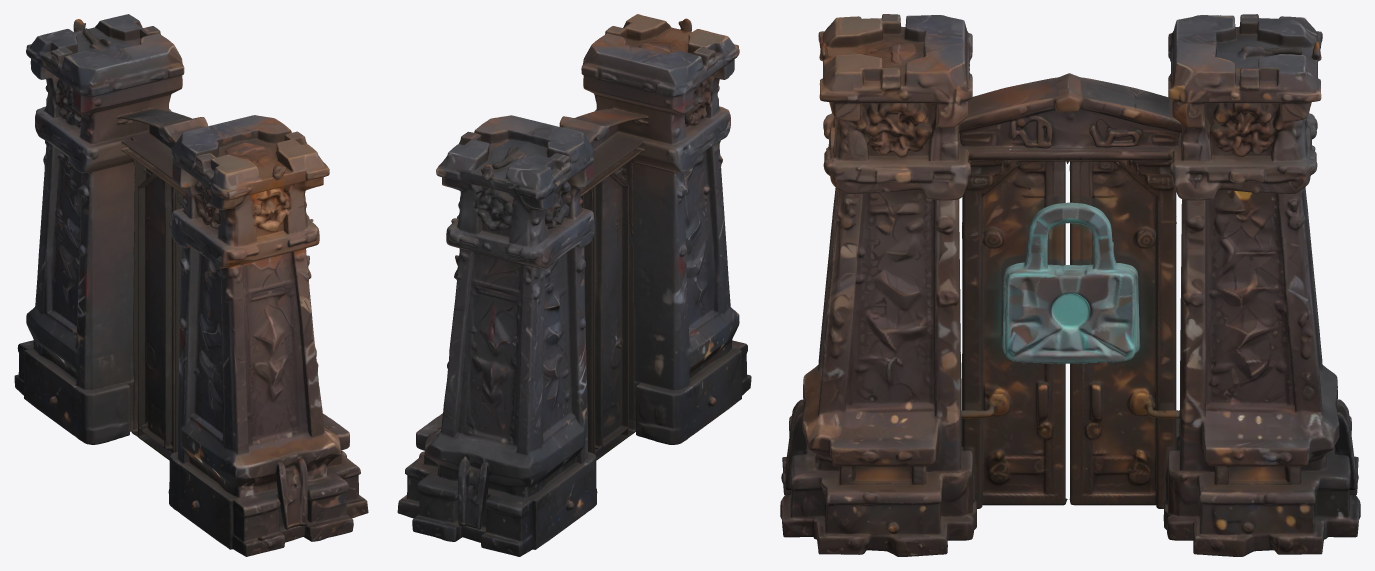
File: بوابة_الأفق.glb
3 views of the same model, side by side, from view 1: azimuth 30°, elevation 25°; view 2: azimuth 150°, elevation 25°; view 3: azimuth 270°, elevation 25° (orthographic). The views are drawn at different scales.
Parts seen in each view (by area): view 1: tripo_node_c15cfc83-fbe3-43a4-953b-50012bb27f35; view 2: tripo_node_c15cfc83-fbe3-43a4-953b-50012bb27f35; view 3: tripo_node_c15cfc83-fbe3-43a4-953b-50012bb27f35.
Boxes of the visible parts, x1=… form: tripo_node_c15cfc83-fbe3-43a4-953b-50012bb27f35: x1=14, y1=14, x2=368, y2=556; tripo_node_c15cfc83-fbe3-43a4-953b-50012bb27f35: x1=397, y1=14, x2=751, y2=556; tripo_node_c15cfc83-fbe3-43a4-953b-50012bb27f35: x1=780, y1=14, x2=1360, y2=556.
Bounding box in the file's own units: 0.3695 × 0.8755 × 1.
Materials: 1 (1 with a texture image).
